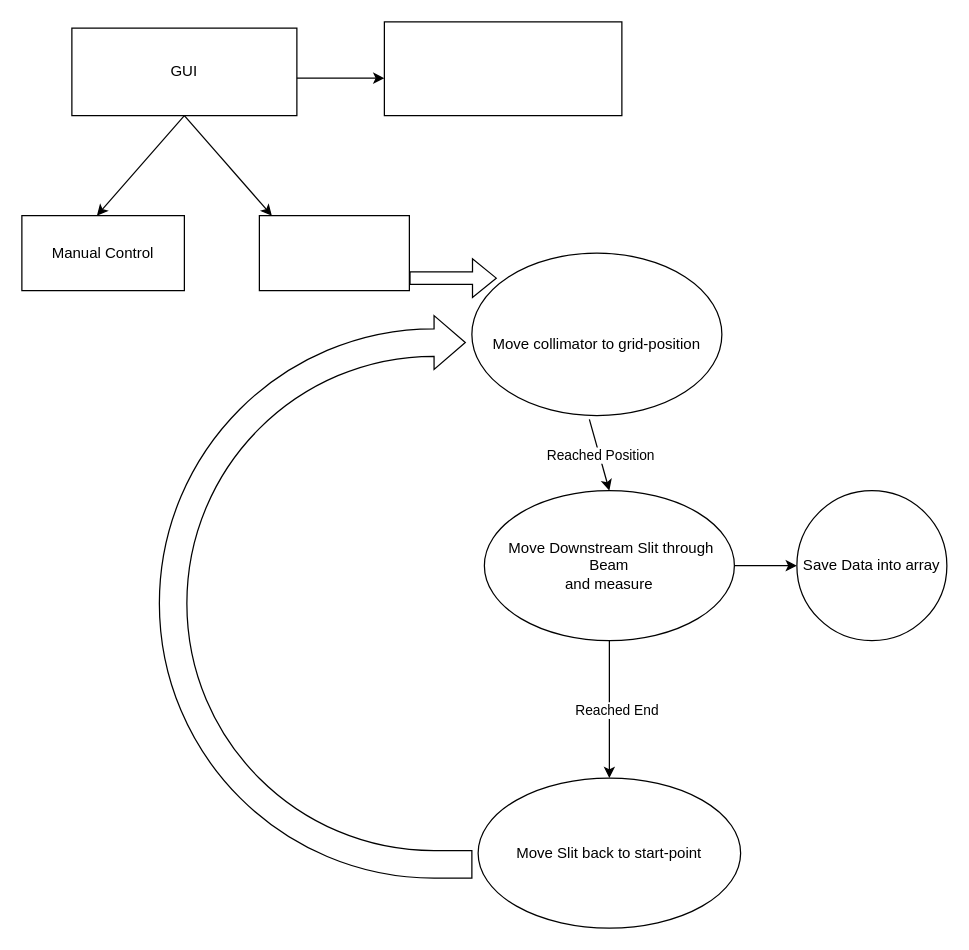
Some shapes in this 969 by 950 pixel diagram are drawn without their labels. The centre of each missing label's shape, as x and y in pixels:
"EPICS Communication" goes at point 502,68.
"Next grid-position" goes at point 315,596.
"Scan Script" goes at point 333,252.
